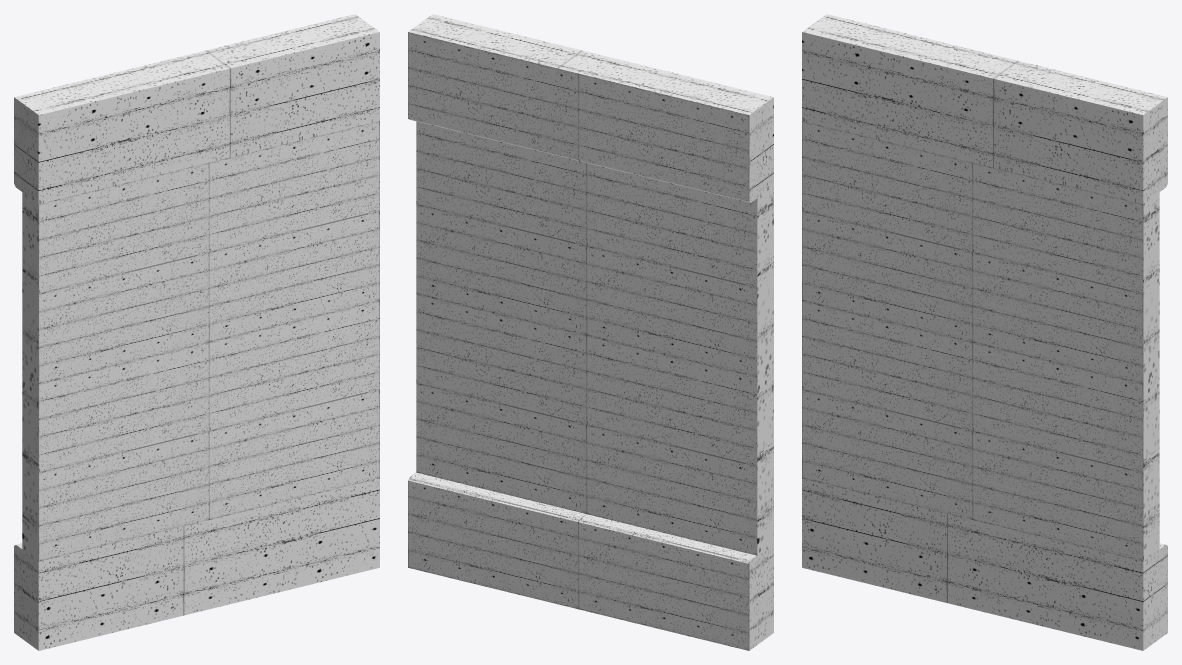
Rendered from Wall_Cardinal_Front_Dither_fix.fbx.
3 renders of one model, left to right at view 1: azimuth 30°, elevation 25°; view 2: azimuth 150°, elevation 25°; view 3: azimuth 330°, elevation 25°, orthographic.
Visible parts, largest first — view 1: Wall_Cardinal_Front_01__3_; view 2: Wall_Cardinal_Front_01__3_; view 3: Wall_Cardinal_Front_01__3_.
Boxes of the visible parts, box(x1,y1,x2,y2) form: Wall_Cardinal_Front_01__3_: box(14, 14, 379, 650); Wall_Cardinal_Front_01__3_: box(408, 14, 773, 650); Wall_Cardinal_Front_01__3_: box(802, 14, 1167, 650).
Size of the model in its own units: 2 by 3 by 0.25.
